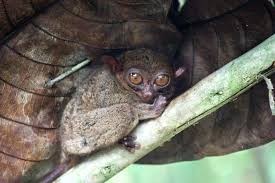tarsier: (56, 46, 188, 156)
